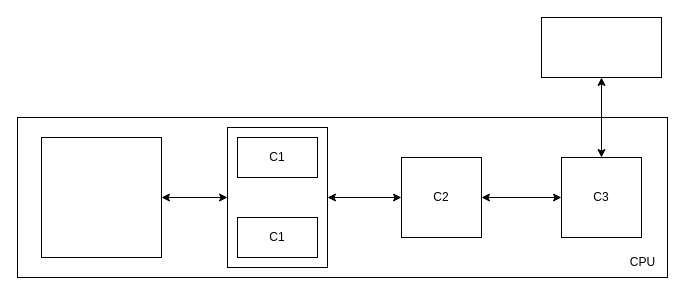
The diagram is 685 pixels wide and 295 high, and some of its shapes have lost their labels. Each missing label, with the box of its shape:
PROCESSORE: (40, 136, 162, 258)
RAM: (540, 16, 662, 78)
